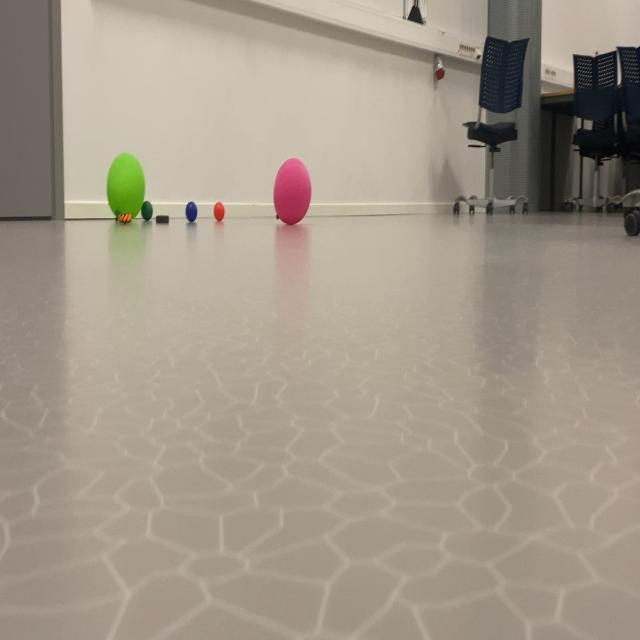7: (206, 189, 228, 233)
green ball: (177, 180, 202, 242)
red ball: (139, 191, 155, 227)
